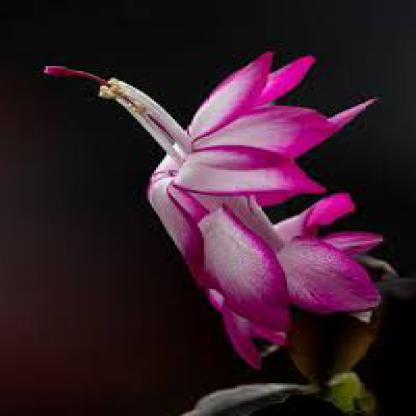Aglonema: (13, 76, 411, 370)
